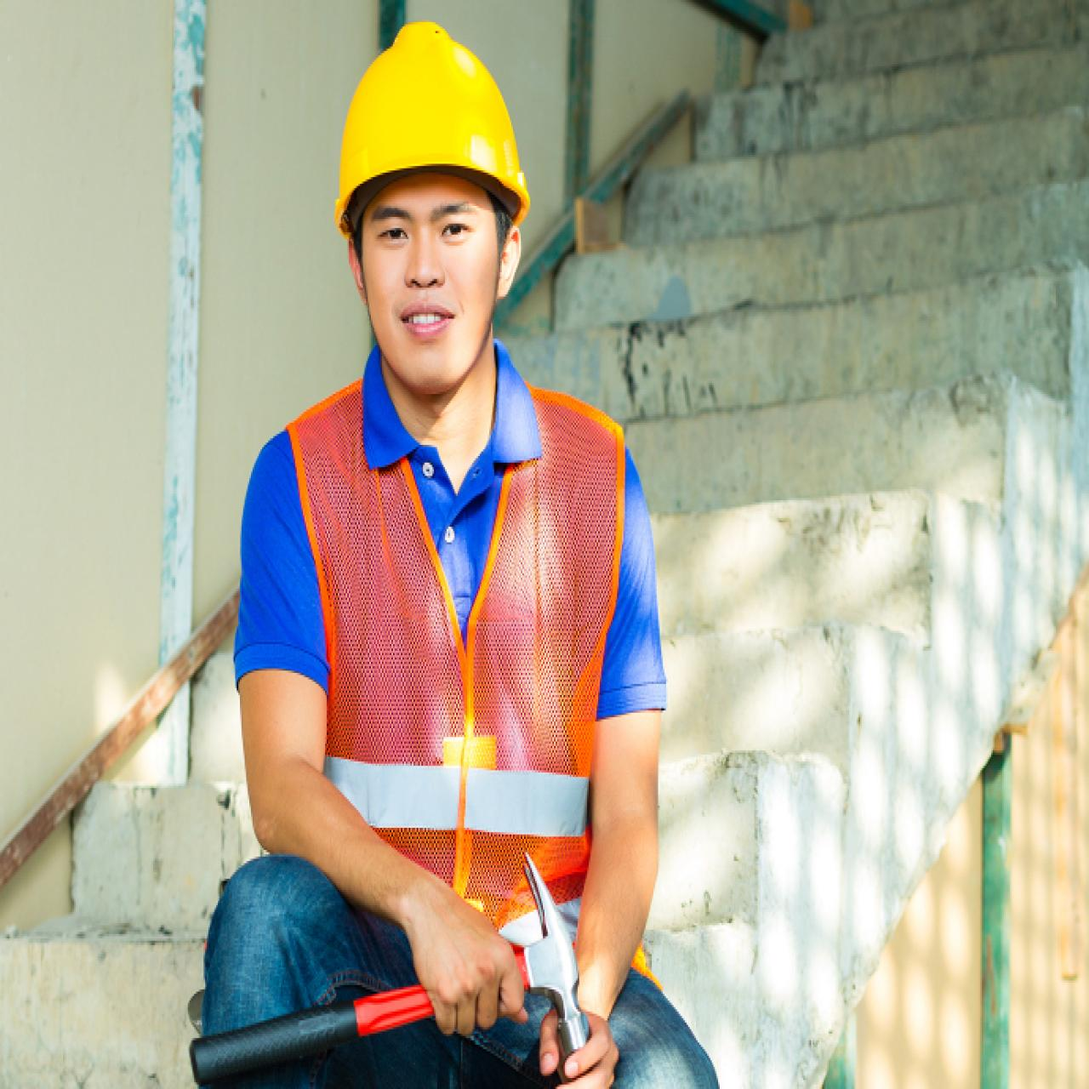Person: (143, 3, 758, 1080)
Safety_Vest: (271, 372, 631, 955)
